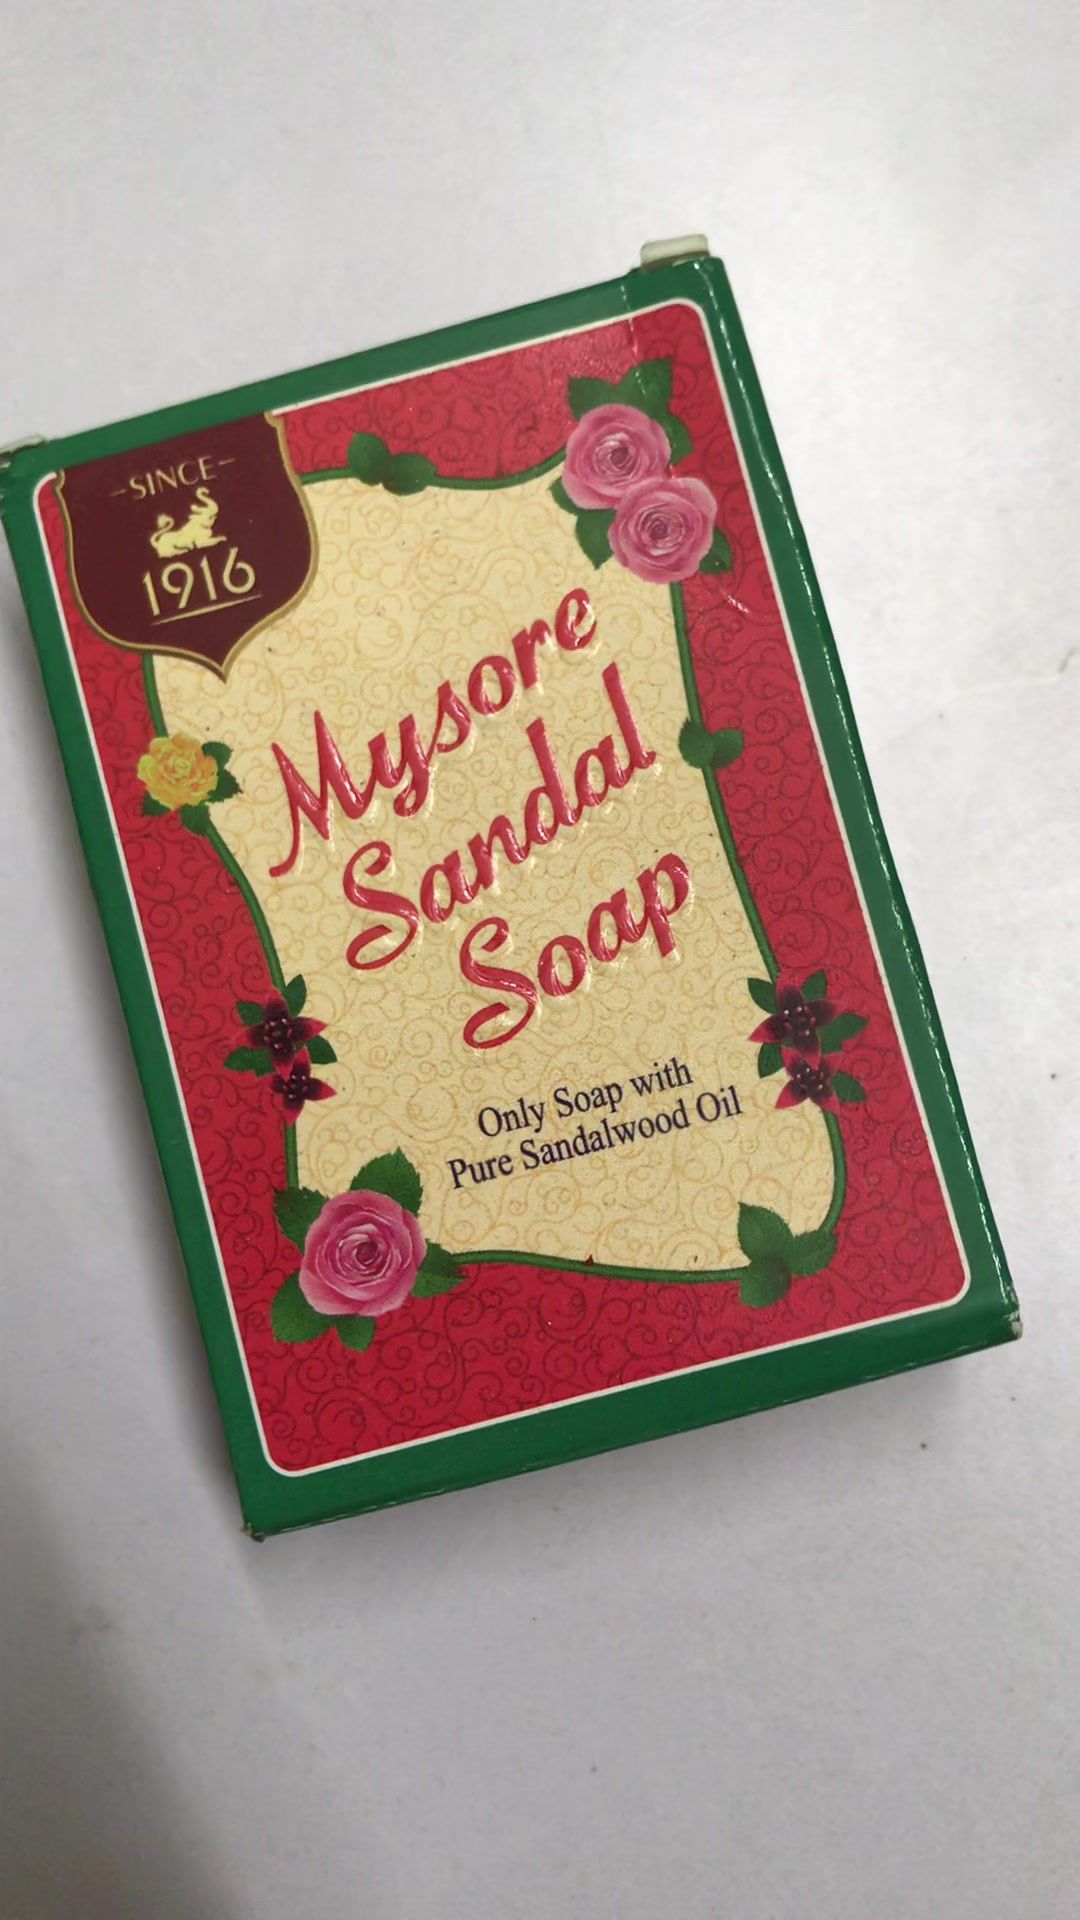mysore sandal soap: (3, 225, 1022, 1542)
